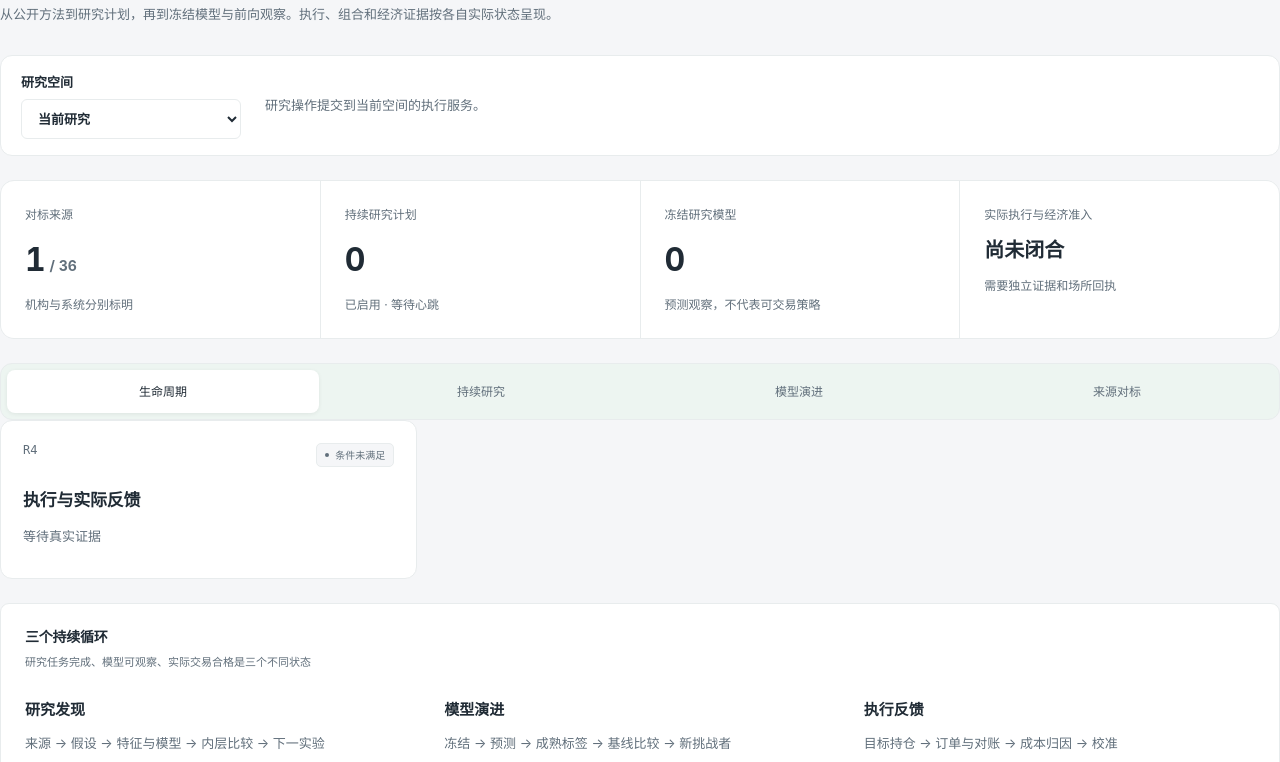
Test: keeps gold research unavailable when no saved snapshot exists
Expected: the text "等待真实证据" is shown, [23, 528, 101, 544]
Click the tab "持续研究".
click(481, 392)  # box [325, 370, 637, 413]
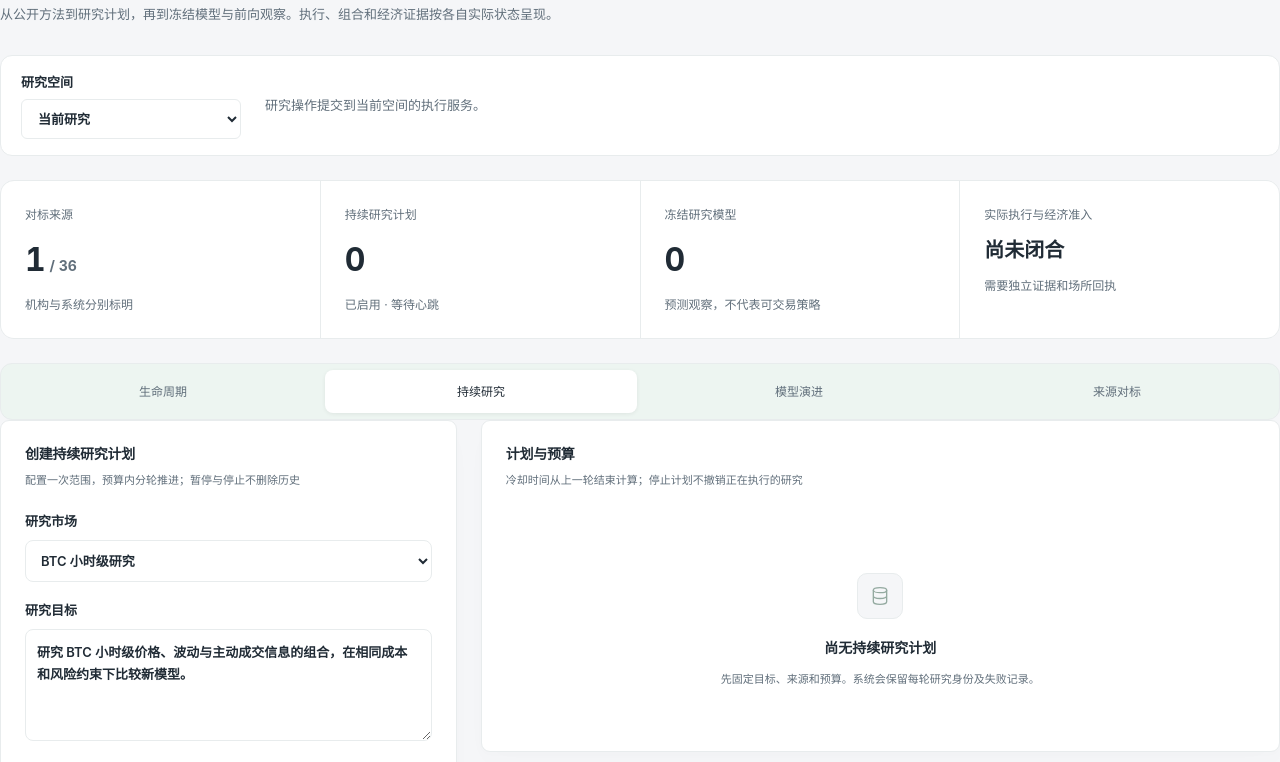
Select "XAUUSDT 黄金合约" in the dropdown labelled "研究市场" at (228, 561), box [25, 540, 432, 582]
(page scrolled)
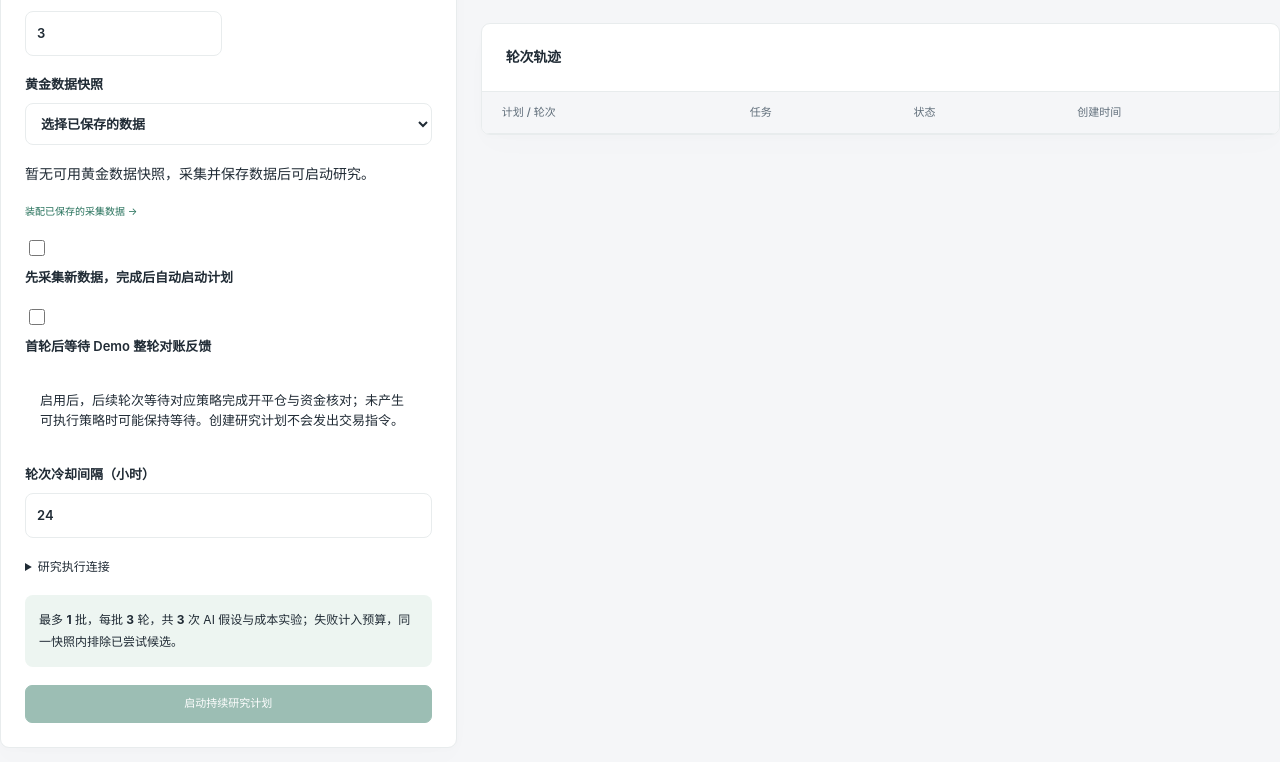
Expected: the text "暂无可用黄金数据快照，采集并保存数据后可启动研究。" is shown, [25, 163, 432, 185]
Expected: the button "启动持续研究计划" is disabled, [25, 685, 432, 723]
